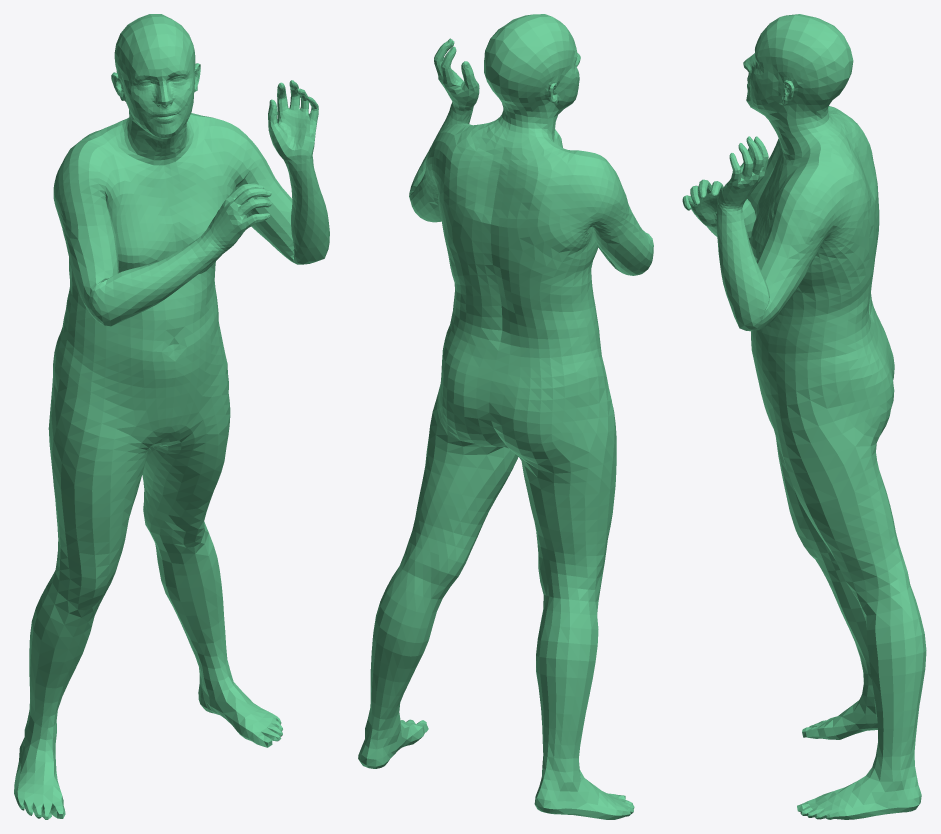
Rendered from hwc_free_05.glb.
3 renders of one model, left to right at view 1: azimuth 30°, elevation 25°; view 2: azimuth 150°, elevation 25°; view 3: azimuth 270°, elevation 25°, orthographic. The views are drawn at different scales.
Visible parts, largest first — view 1: hwc_free; view 2: hwc_free; view 3: hwc_free.
Part boxes in pixels (bbox=[...]): hwc_free: bbox=[14, 14, 329, 819]; hwc_free: bbox=[358, 14, 653, 819]; hwc_free: bbox=[682, 14, 926, 819].
Size of the model in its own units: 0.6124 by 1.72 by 0.4968.
